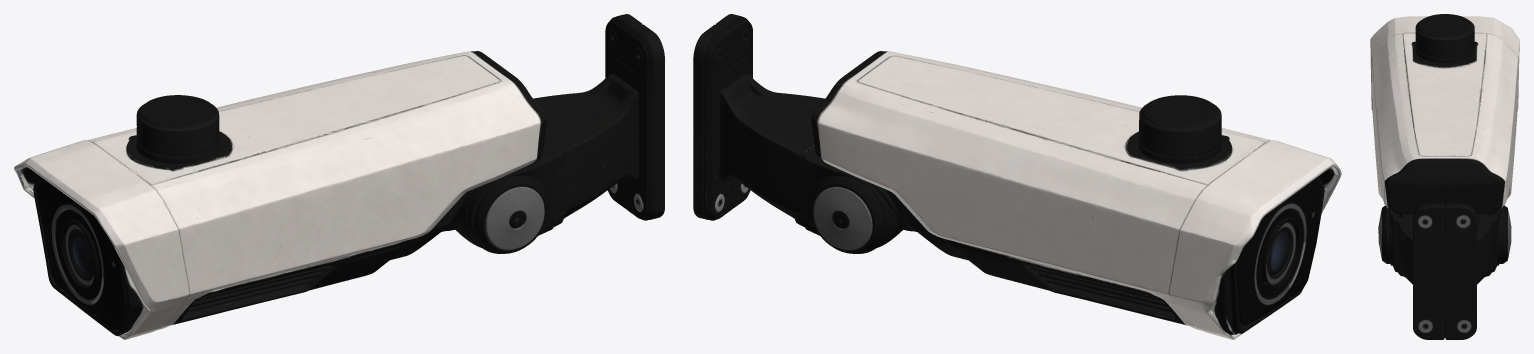
Rendered from meshy-7.glb.
3 views of the same model, side by side, from view 1: azimuth 30°, elevation 25°; view 2: azimuth 150°, elevation 25°; view 3: azimuth 270°, elevation 25° (orthographic). The views are drawn at different scales.
Bounding box in the file's own units: 1.9 × 0.6547 × 0.5834.
1 material, 1 textured.
